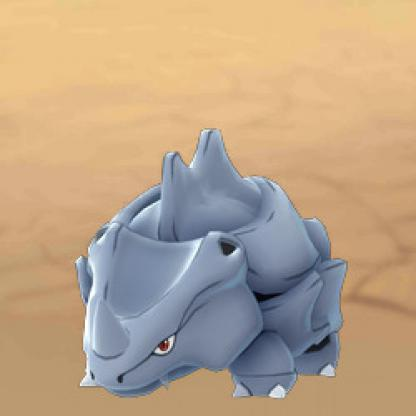Rhyhorn: (68, 126, 351, 409)
